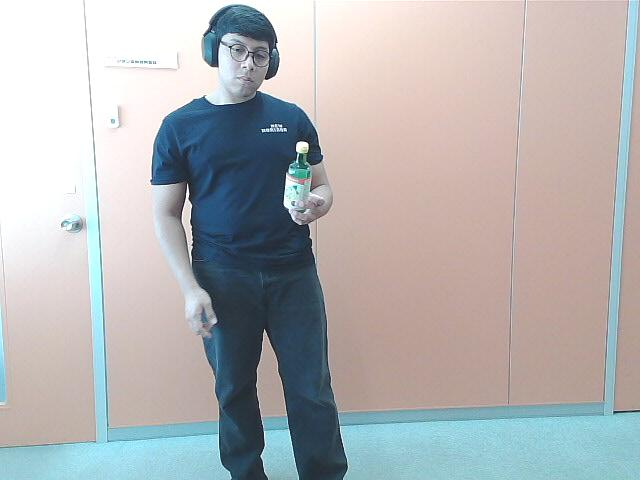Lemon_sapporo: (284, 140, 312, 216)
